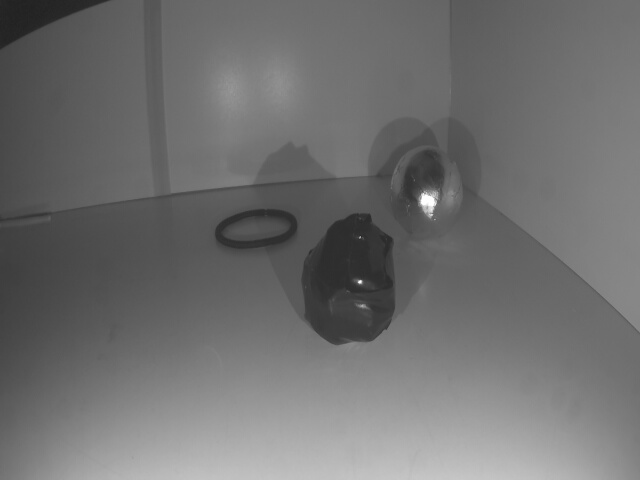Dead: (301, 216, 395, 344)
Live: (392, 143, 462, 238)
